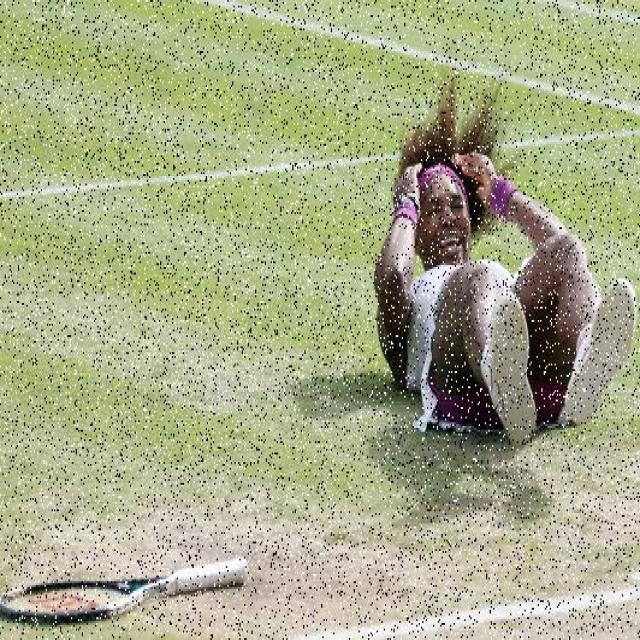fall: (372, 118, 629, 434)
